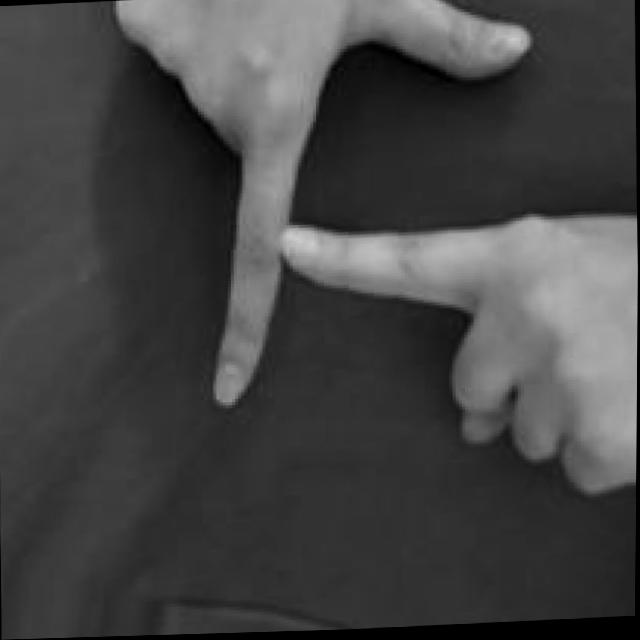F: (108, 0, 640, 516)
